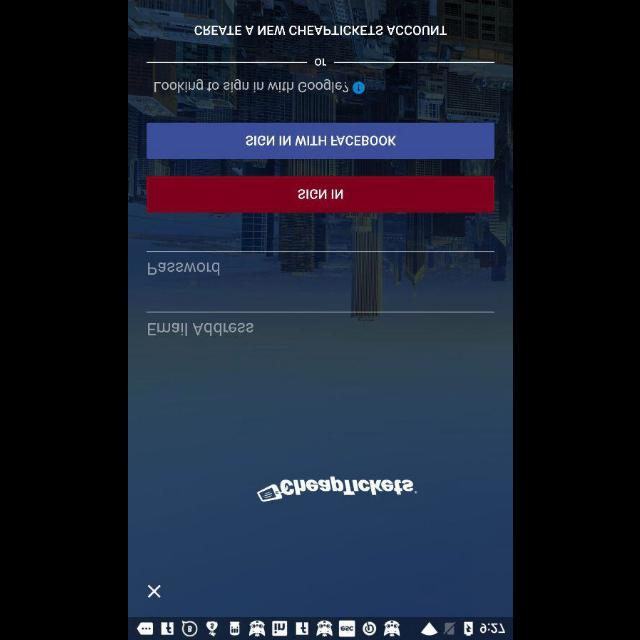backgroundimage: (128, 0, 512, 616)
icon: (147, 584, 161, 598), (352, 80, 364, 94)
image: (256, 476, 417, 502)
input: (146, 311, 494, 337), (146, 251, 494, 275)
text: (154, 78, 348, 94), (194, 24, 446, 36), (147, 322, 253, 336), (148, 262, 220, 276), (314, 58, 326, 66)
textbutton: (146, 122, 494, 160), (146, 175, 494, 212)
uppertaskbar: (128, 617, 512, 639)
